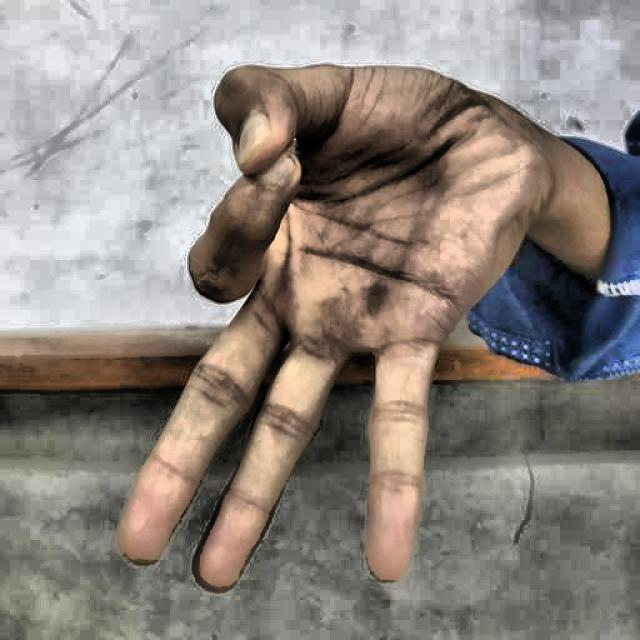Fa: (95, 32, 575, 622)
